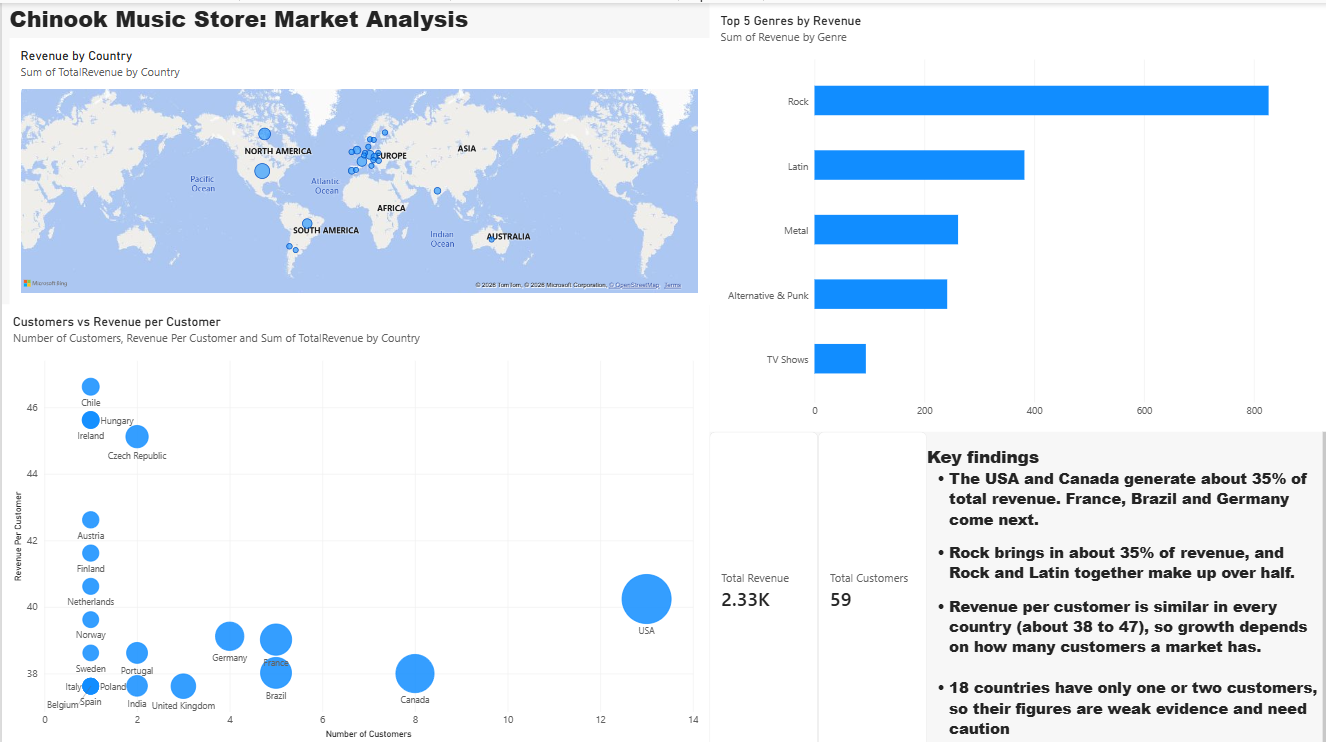

What the dashboard file says about the page in this screenshot:
{"tool":"powerbi","page":{"name":"Chinook Market Analysis","canvas":[1920,1080],"ordinal":0},"visuals":[{"type":"map","title":"Revenue by Country","fields":{"Category":["RevenueByCountry.Country"],"Size":["Sum(RevenueByCountry.TotalRevenue)"]},"box":[10.9,50.7,1013.4,385.5],"z":0},{"type":"clusteredBarChart","title":"Top 5 Genres by Revenue","fields":{"Category":["Top5Genres.Genre"],"Y":["Sum(Top5Genres.Revenue)"]},"box":[1024.3,0,895.8,620.7],"z":1},{"type":"scatterChart","title":"Customers vs Revenue per Customer","fields":{"Category":["CustomerRevenue.Country"],"Size":["Sum(CustomerRevenue.TotalRevenue)"],"X":["Sum(CustomerRevenue.NumCustomers)"],"Y":["Sum(CustomerRevenue.RevenuePerCustomer)"]},"box":[0,436.1,1024.3,644.2],"z":2},{"type":"cardVisual","fields":{"Data":["Sum(RevenueByCountry.TotalRevenue)"]},"box":[1024.3,620.7,157.4,459.7],"z":3},{"type":"cardVisual","fields":{"Data":["Sum(RevenueByCountry.TotalCustomers)"]},"box":[1181.7,620.7,157.4,459.7],"z":4},{"type":"textbox","box":[959,802,190,278],"z":5},{"type":"textbox","box":[1339.1,620.7,580.9,459.7],"z":6},{"type":"textbox","box":[10.9,0,997.1,50.7],"z":7}]}

Visuals, with their boxes in screenshot pixels (x1, y1, x2, y2), scaled from the page's 1920x1080 canvas onto the 1326x742 screenshot:
"Revenue by Country" map: [left=8, top=35, right=707, bottom=300]
"Top 5 Genres by Revenue" clusteredBarChart: [left=707, top=0, right=1325, bottom=426]
"Customers vs Revenue per Customer" scatterChart: [left=0, top=300, right=707, bottom=741]
cardVisual - Sum(RevenueByCountry.TotalRevenue): [left=707, top=426, right=816, bottom=741]
cardVisual - Sum(RevenueByCountry.TotalCustomers): [left=816, top=426, right=925, bottom=741]
textbox: [left=662, top=551, right=794, bottom=741]
textbox: [left=925, top=426, right=1325, bottom=741]
textbox: [left=8, top=0, right=696, bottom=35]
